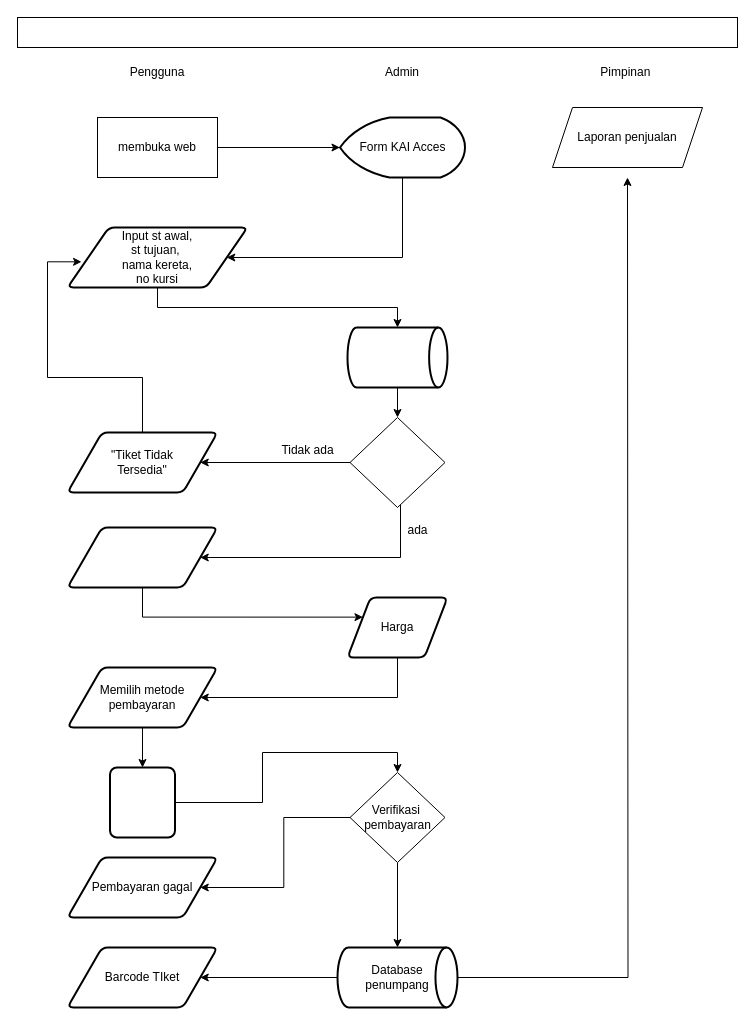
This 755x1026 diagram has some shape labels left out. The centre of each missing label's shape, as x and y in pixels:
"Bayar" belongs at point 142,802.
"Database tiket" belongs at point 397,357.
"Memilih Tiket" belongs at point 142,557.
"PENJUALAN TIKET KERETA API ONLINE" belongs at point 377,32.
"Tiket ada/ tidak" belongs at point 397,462.
